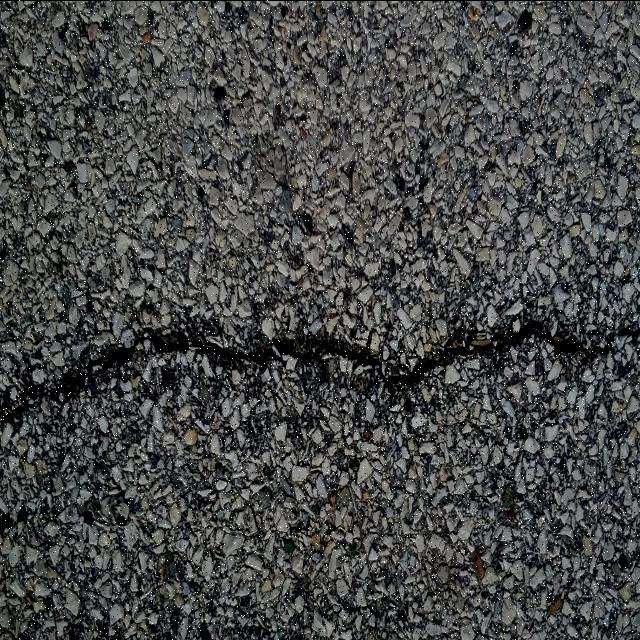Crack: (0, 315, 640, 412)
